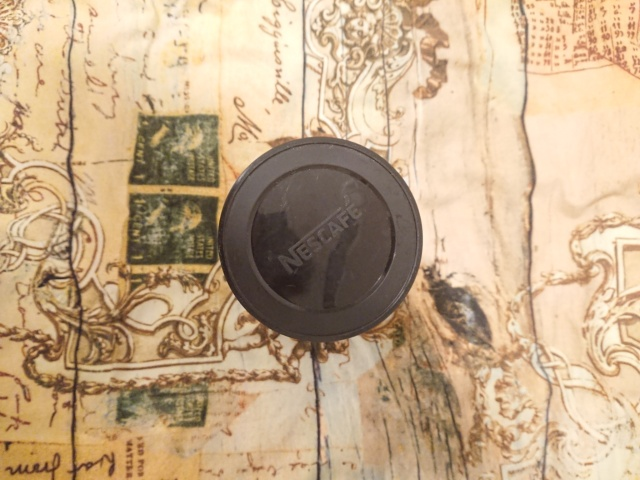Nescafe Classic 225g: (213, 133, 427, 346)
